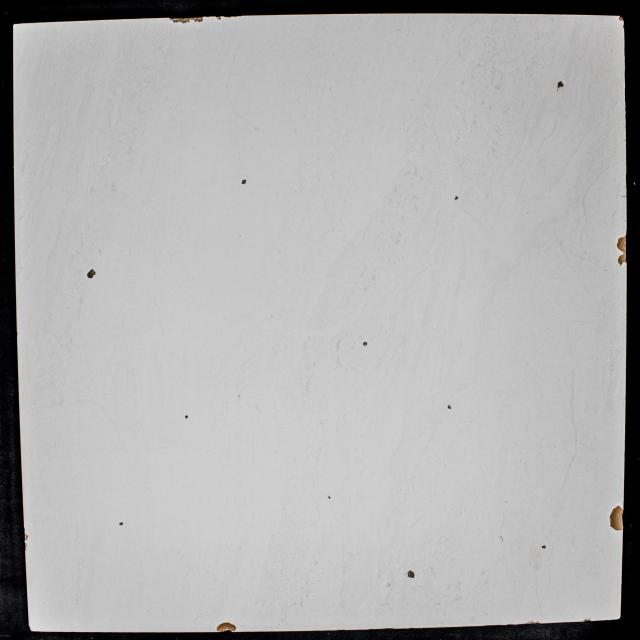edge-chipping: (609, 505, 624, 531), (616, 234, 627, 266), (168, 17, 204, 24), (216, 622, 237, 632), (24, 533, 29, 549), (524, 620, 542, 624), (583, 618, 592, 622), (618, 16, 624, 21), (224, 16, 238, 18), (216, 16, 221, 20), (623, 24, 624, 29)
hole: (86, 268, 96, 279), (408, 570, 416, 578), (556, 80, 564, 88), (241, 179, 247, 185), (447, 404, 452, 410), (362, 341, 368, 346), (454, 195, 458, 201), (119, 522, 123, 526), (542, 545, 546, 549), (185, 415, 188, 419), (328, 496, 331, 499)
